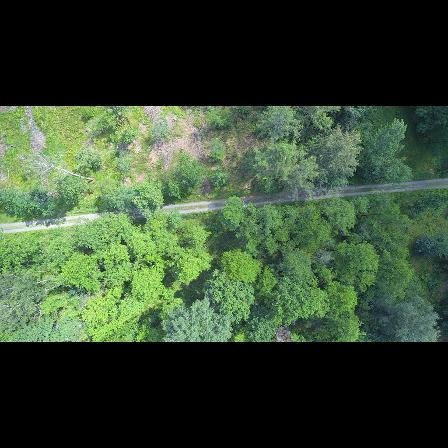Dead: (19, 151, 93, 182)
